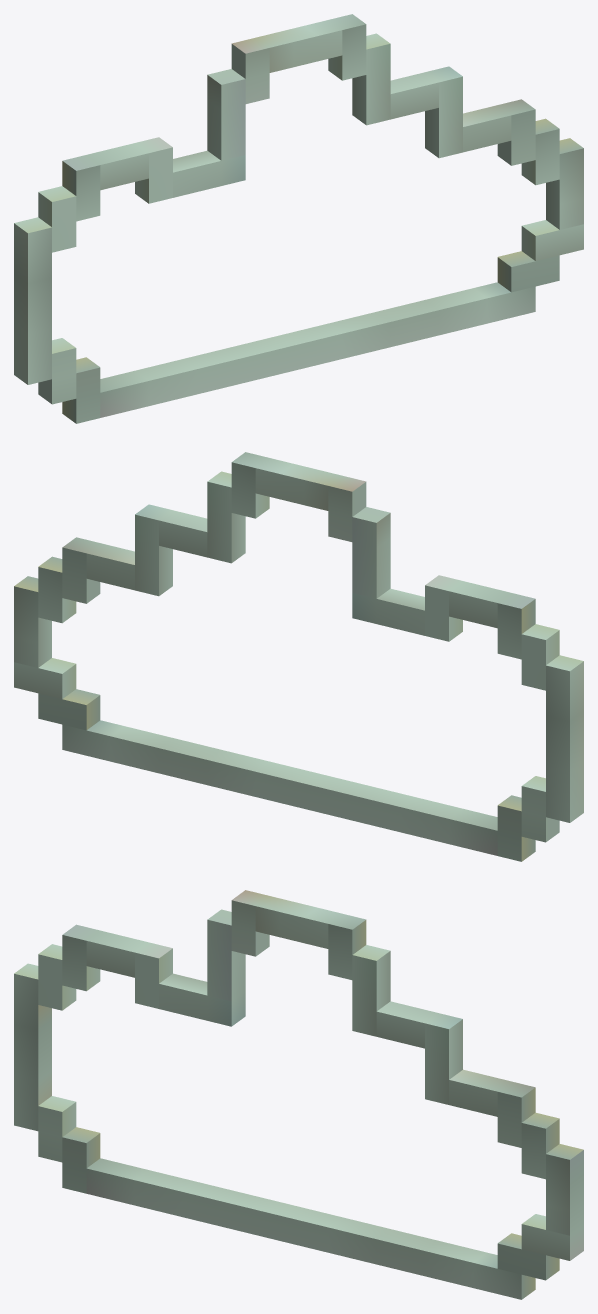
Rendered from WallDecorCloudOutlineBig_00.fbx.
3 views of the same model, one above another, from view 1: azimuth 30°, elevation 25°; view 2: azimuth 150°, elevation 25°; view 3: azimuth 330°, elevation 25° (orthographic).
Visible parts, largest first — view 1: WallDecorCloudOutlineBig_00; view 2: WallDecorCloudOutlineBig_00; view 3: WallDecorCloudOutlineBig_00.
Boxes of the visible parts, x1,y1,x2,y2 form: WallDecorCloudOutlineBig_00: (14, 14, 583, 423); WallDecorCloudOutlineBig_00: (14, 452, 583, 861); WallDecorCloudOutlineBig_00: (14, 890, 583, 1299).
Size of the model in its own units: 115 by 5 by 65.
1 material, 1 textured.
